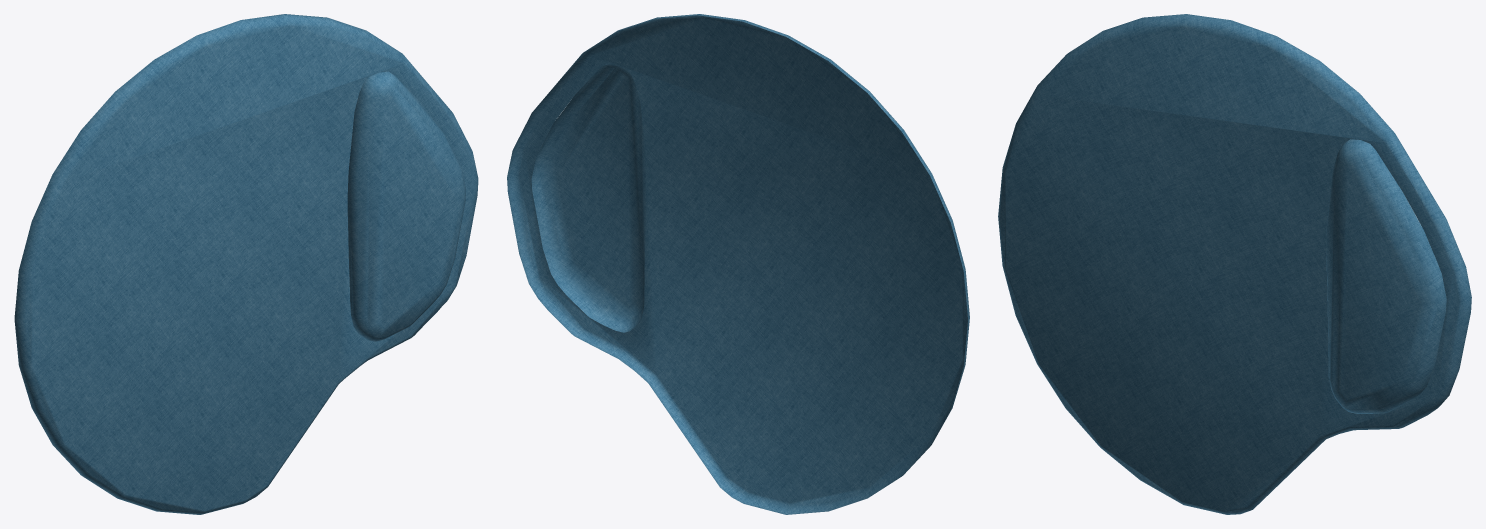
3 renders of one model, left to right at view 1: azimuth 30°, elevation 25°; view 2: azimuth 150°, elevation 25°; view 3: azimuth 330°, elevation 25°, orthographic. The views are drawn at different scales.
Parts seen in each view (by area): view 1: Object_4; view 2: Object_4; view 3: Object_4.
Boxes of the visible parts, x1,y1,x2,y2 form: Object_4: (14, 14, 478, 514); Object_4: (507, 14, 969, 514); Object_4: (998, 14, 1471, 514).
Size of the model in its own units: 0.11 by 0.11 by 0.00638.
1 material, 1 textured.
